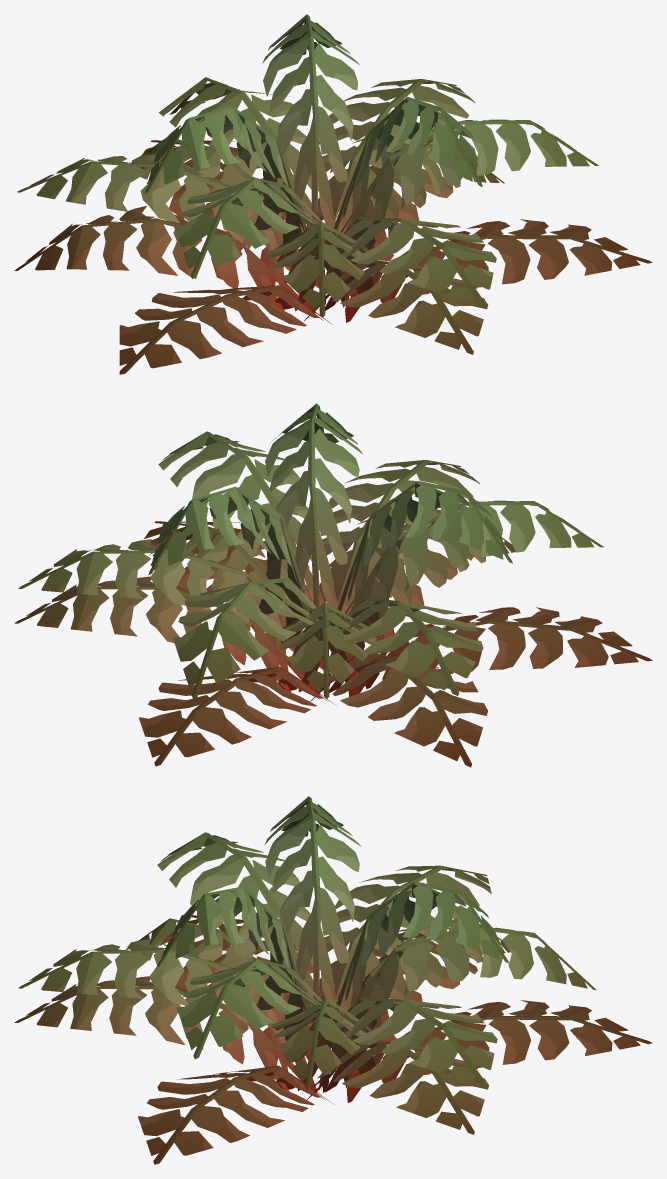
The model's file is synty-plant-fern-leaves-02.gltf.
The picture shows the model from 3 angles, top to bottom: view 1: azimuth 30°, elevation 25°; view 2: azimuth 150°, elevation 25°; view 3: azimuth 270°, elevation 25°; orthographic projection.
Parts seen in each view (by area): view 1: SM_Plant_Fern_Leaves_02; view 2: SM_Plant_Fern_Leaves_02; view 3: SM_Plant_Fern_Leaves_02.
Boxes of the visible parts, x1,y1,x2,y2 form: SM_Plant_Fern_Leaves_02: [14, 14, 652, 374]; SM_Plant_Fern_Leaves_02: [14, 403, 652, 767]; SM_Plant_Fern_Leaves_02: [14, 796, 652, 1164].
Bounding box in the file's own units: 1.29 × 0.5601 × 1.4.
Materials: 1 (1 with a texture image).
